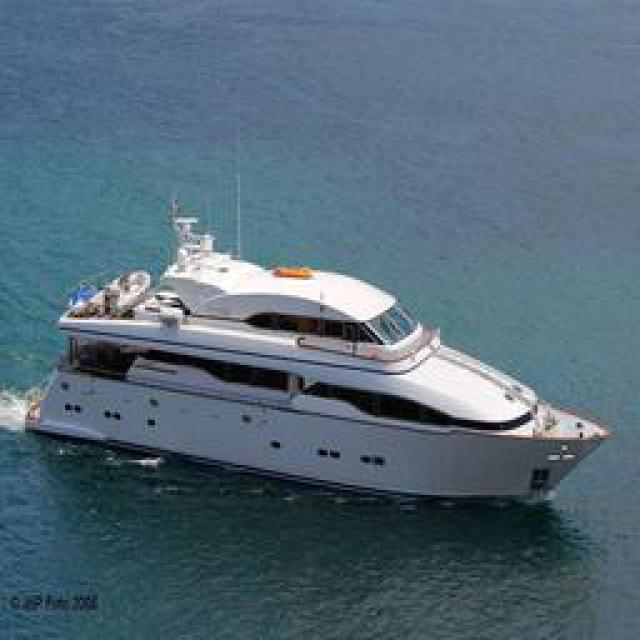Ship: (31, 244, 609, 507)
